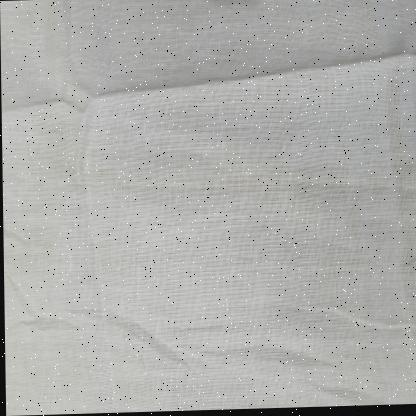spot: (128, 155, 289, 212)
